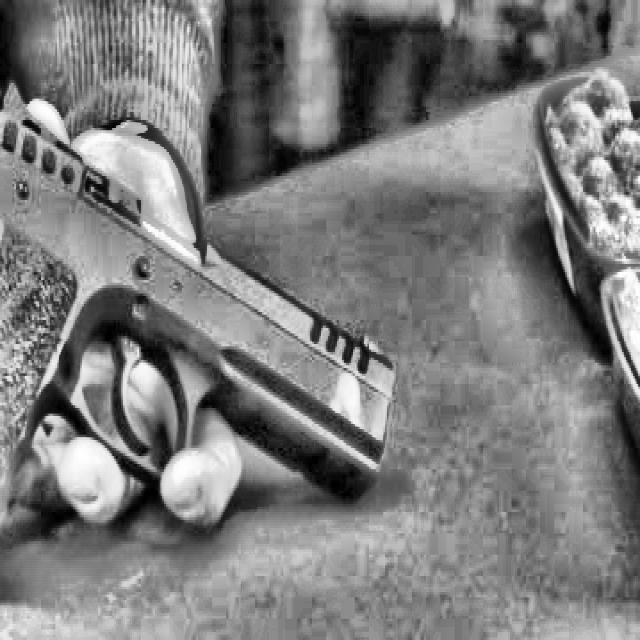Tanfoglio: (0, 64, 403, 616)
